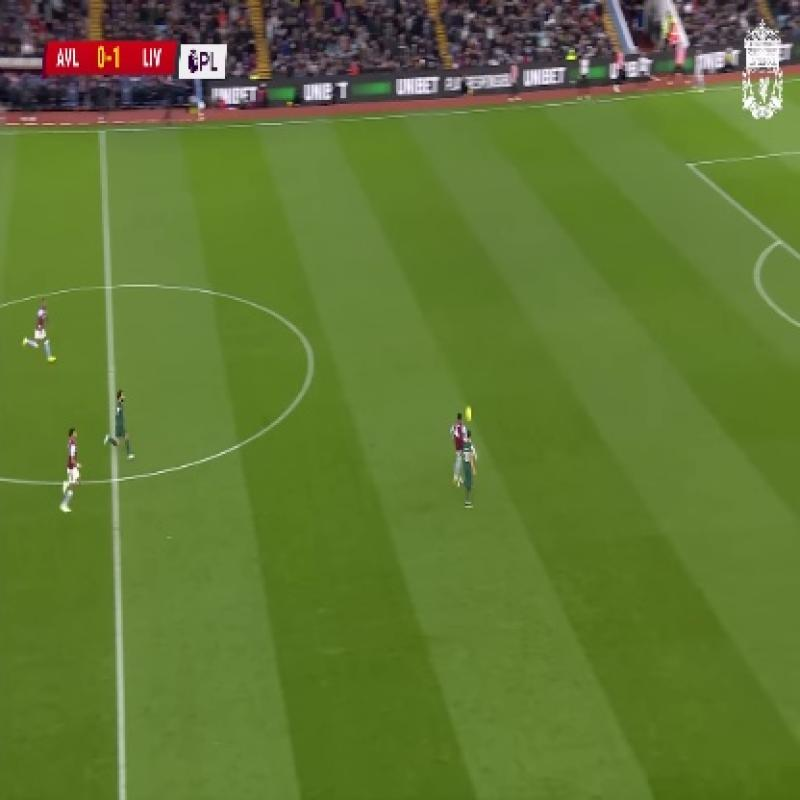10: (769, 229, 784, 252)
13: (90, 117, 112, 148)
14: (94, 266, 121, 304)
15: (104, 462, 125, 498)
9: (680, 154, 696, 177)
c: (294, 336, 328, 376)
